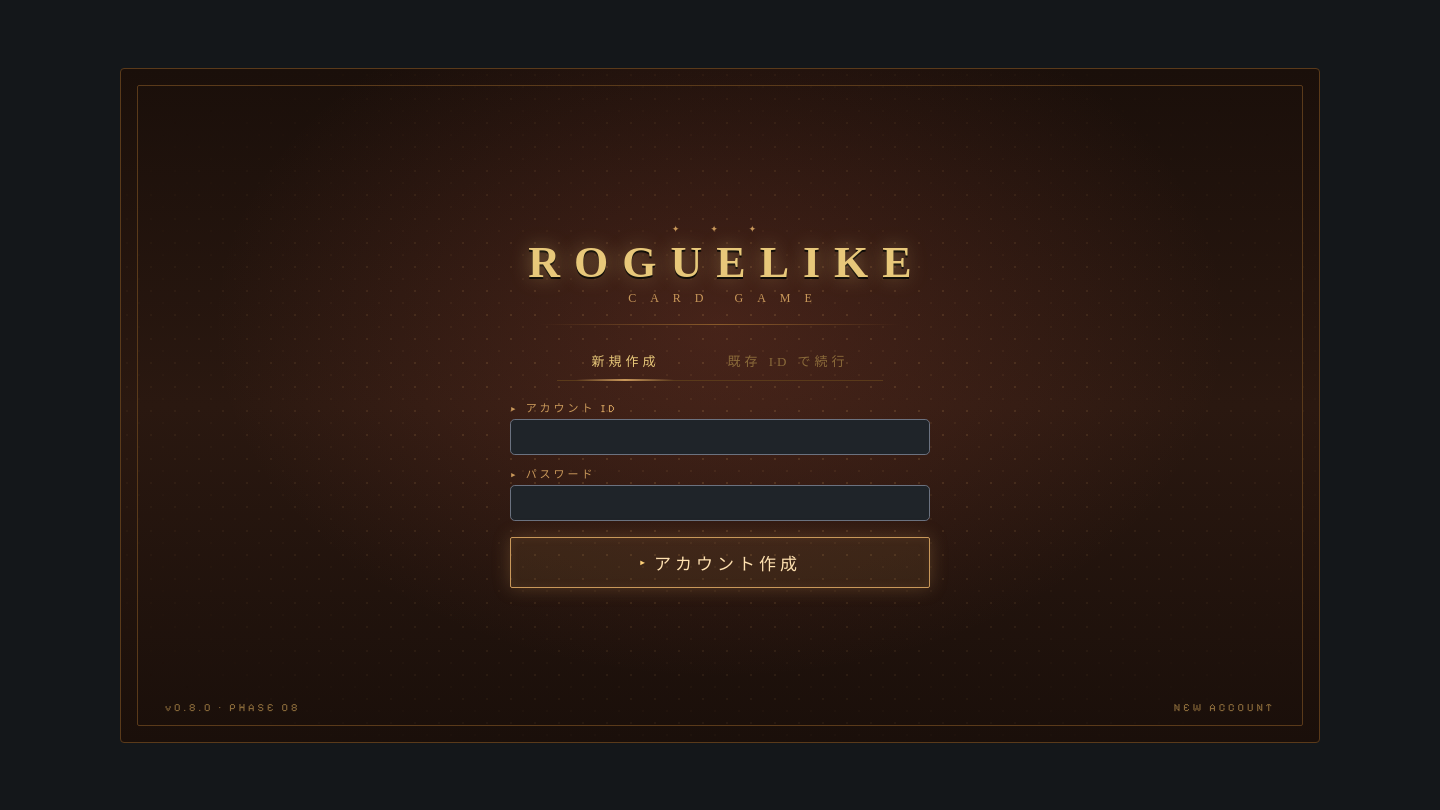
LoginScreen › rejects id with slash in client-side validation
Type "bad/id" into the field named "アカウント ID" at (720, 436), box [510,418,930,454]
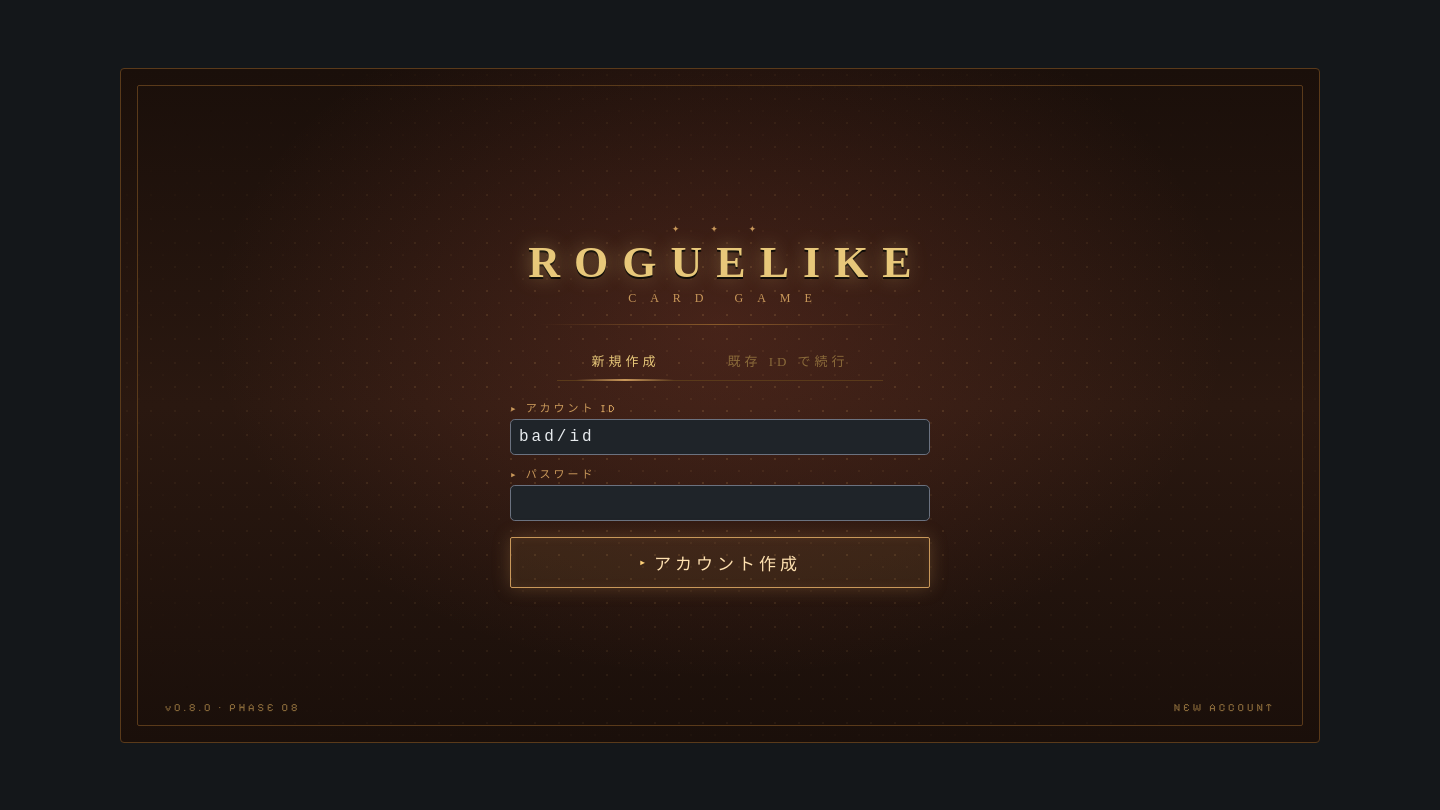
Click the button "▸ アカウント作成" at (720, 562), box [510,536,930,588]
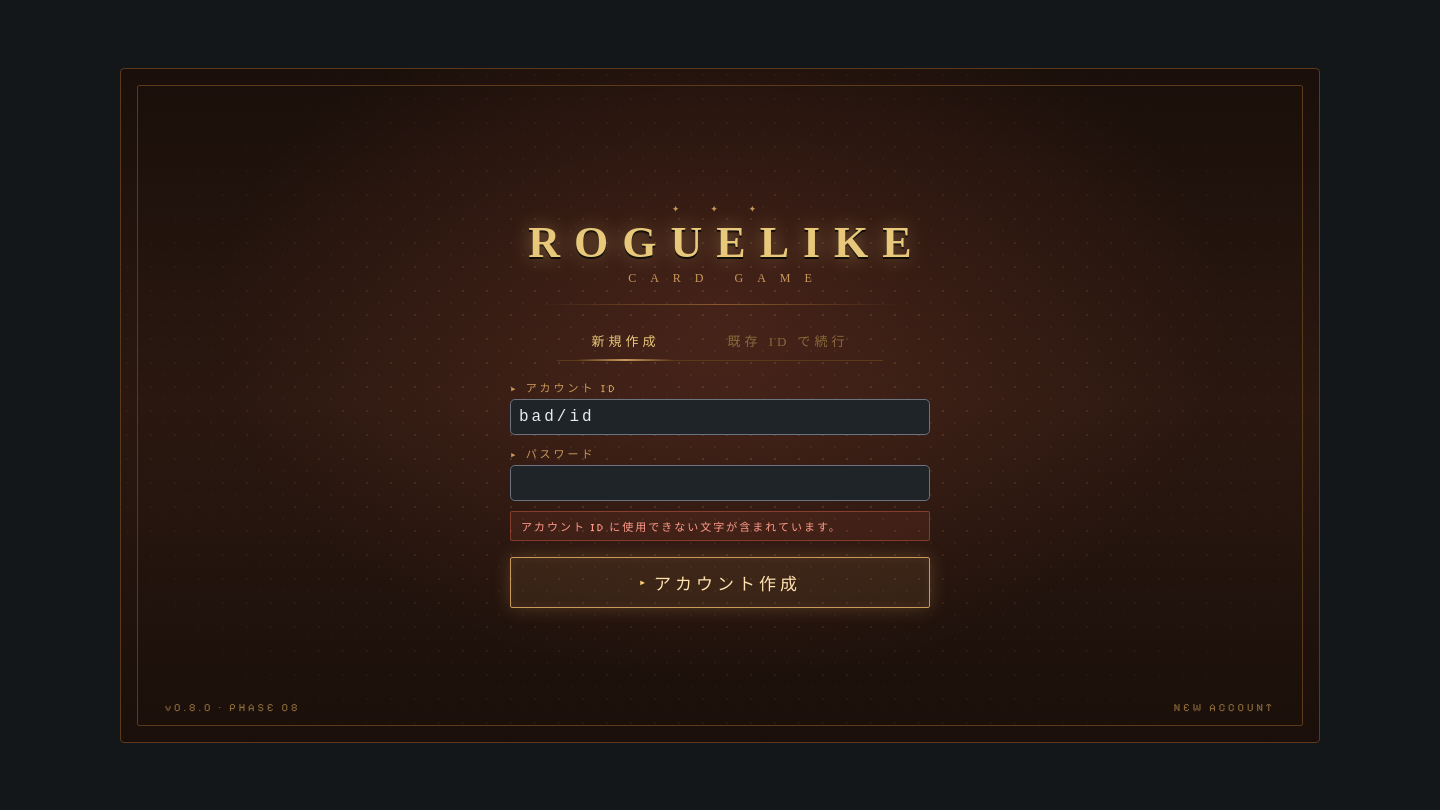
expect the text "アカウント ID に使用できない文字が含まれています。" is shown: met, box [510,510,930,540]
